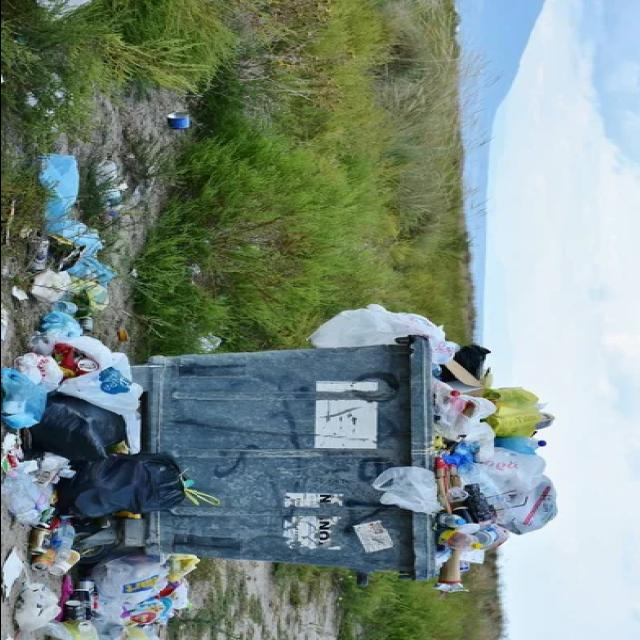garbage: (23, 154, 196, 634)
